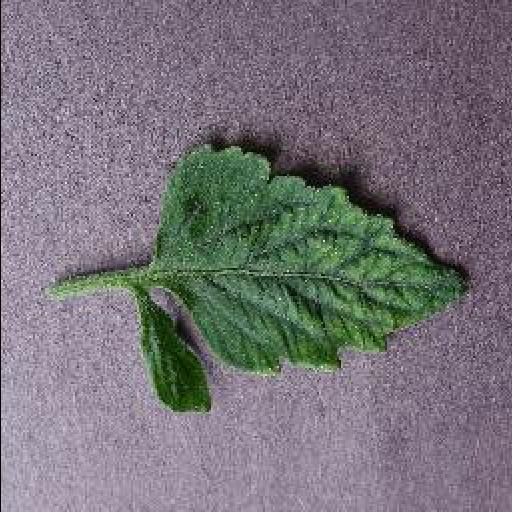Mosaic Virus: (148, 144, 476, 374), (140, 294, 216, 418)
